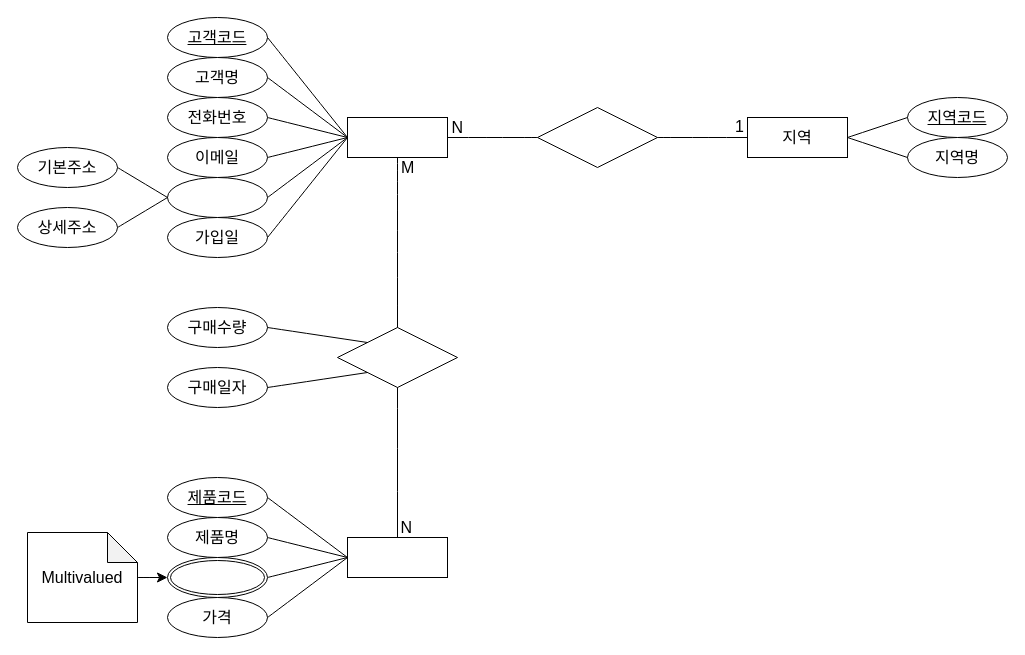
The diagram is 1025 pixels wide and 655 high, and some of its shapes have lost their labels. The shapes that lost their labels are listed below. From the top down, each one's centre as x and y in pixels, then its label:
At (397,137): "고객".
At (597,137): "관리".
At (217,197): "주소".
At (397,357): "구매".
At (217,577): "제품색상".
At (397,557): "제품".
